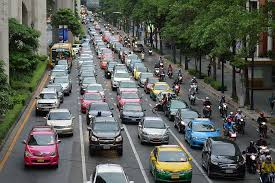nonacc: (77, 48, 152, 183), (146, 84, 249, 181)
